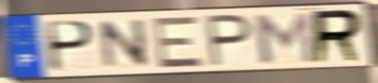E: (152, 15, 206, 71)
M: (250, 11, 319, 65)
N: (97, 17, 152, 72)
P: (204, 13, 255, 69), (47, 19, 97, 74)
R: (310, 8, 364, 67)
